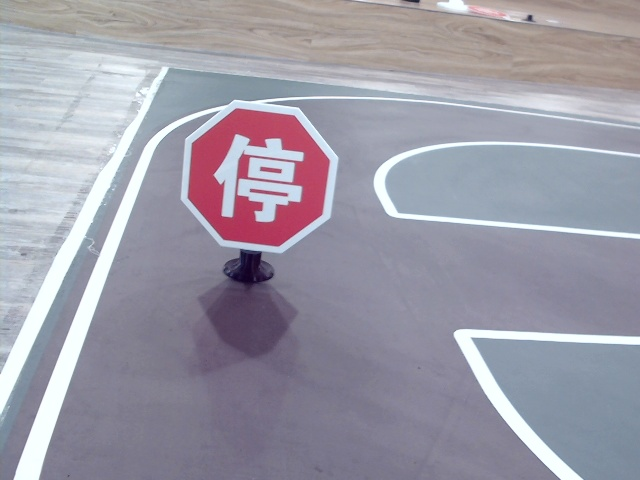stop: (214, 129, 301, 224)
